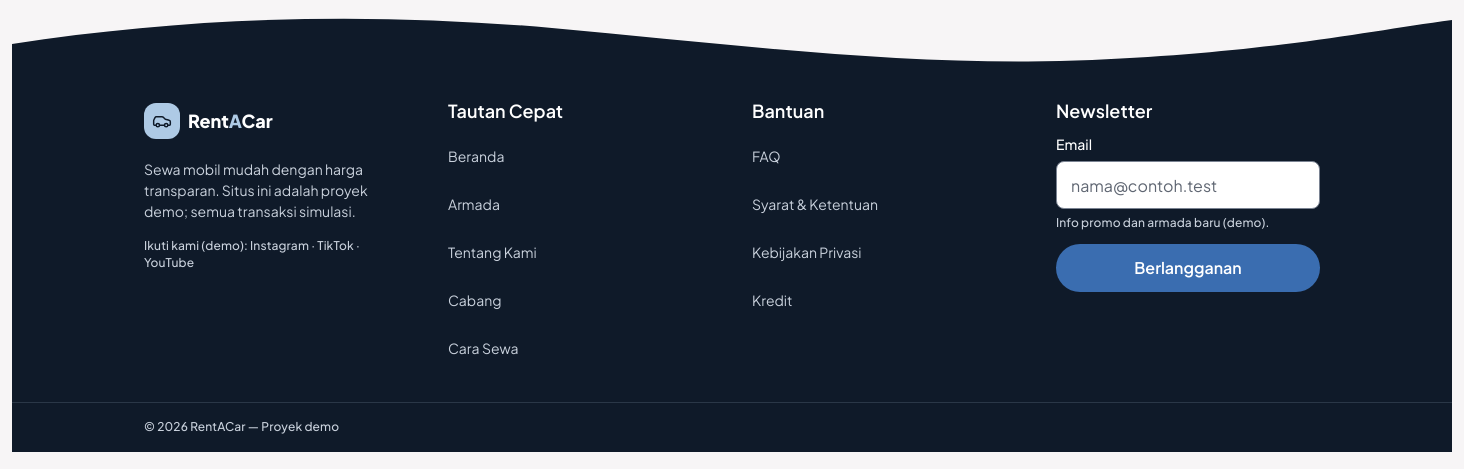
Footer › rejects an empty email
Click the button "Berlangganan" at (1188, 268), box [1056,244,1320,292]
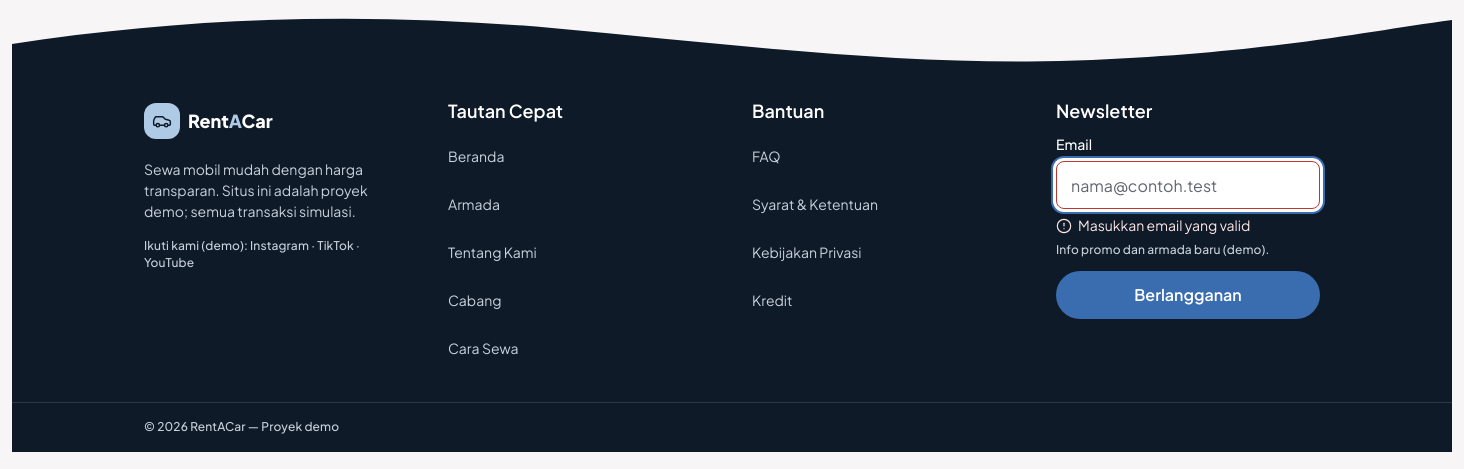
Expected: the text "Masukkan email yang valid" is shown, [1056,216,1250,234]
